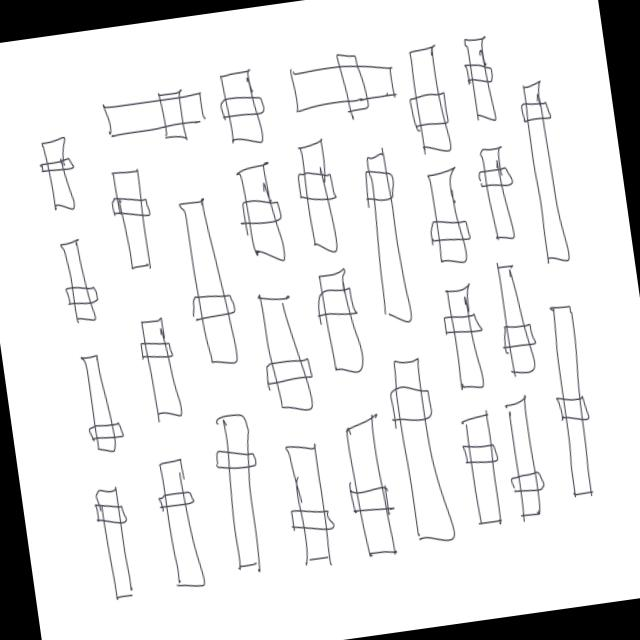Slider: (378, 339, 461, 556), (535, 294, 613, 502), (166, 180, 248, 376), (508, 74, 584, 277), (350, 132, 420, 336), (202, 399, 280, 582), (270, 35, 408, 130), (246, 274, 326, 426), (272, 429, 344, 581), (81, 463, 153, 613), (335, 400, 402, 560), (144, 451, 214, 603), (394, 28, 466, 164), (451, 396, 515, 540), (98, 75, 219, 150), (126, 296, 188, 436), (308, 258, 375, 387), (496, 386, 558, 525), (227, 154, 296, 276), (286, 132, 352, 259), (432, 273, 497, 397), (100, 152, 162, 278), (485, 254, 543, 380), (414, 154, 474, 272), (71, 348, 131, 460), (456, 17, 508, 131), (50, 229, 104, 332), (216, 58, 276, 150), (470, 140, 522, 244), (28, 132, 86, 222)
